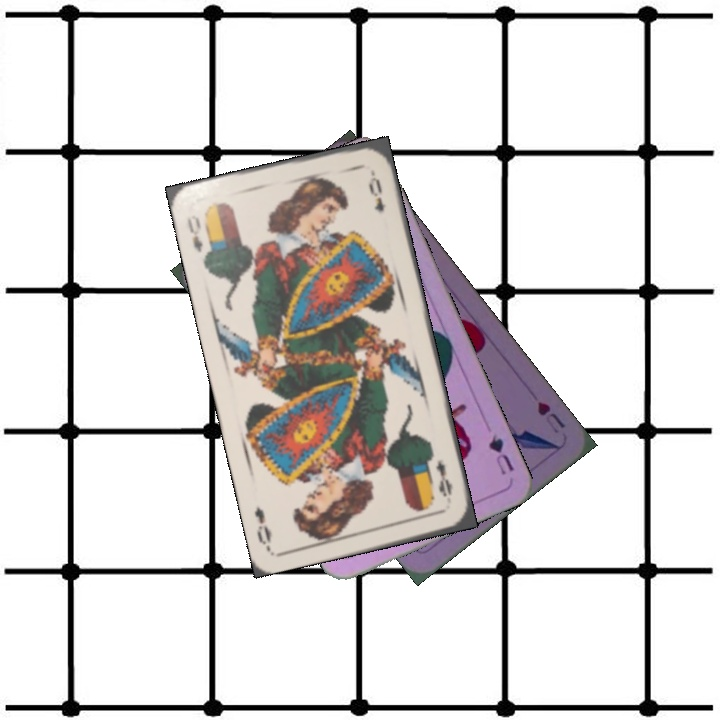EO: (431, 456, 455, 500), (183, 211, 205, 255)
GU: (484, 429, 517, 478)
HU: (533, 397, 568, 431)
